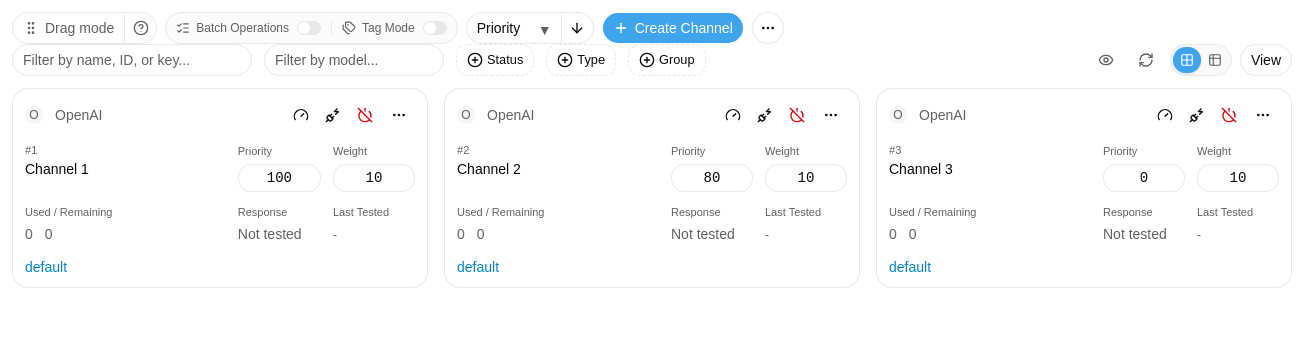
card and table views share the saved order
Click the button "Drag mode" at (69, 28), box [12,12,125,44]
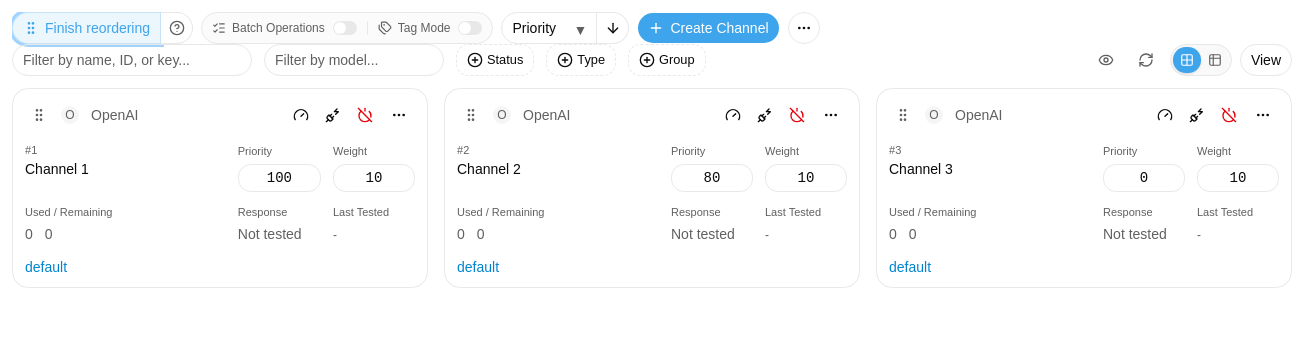
Expected: the button named "Reorder channel 3" is shown
Press ArrowUp in the button named "Reorder channel 3", box [889,101,917,129]
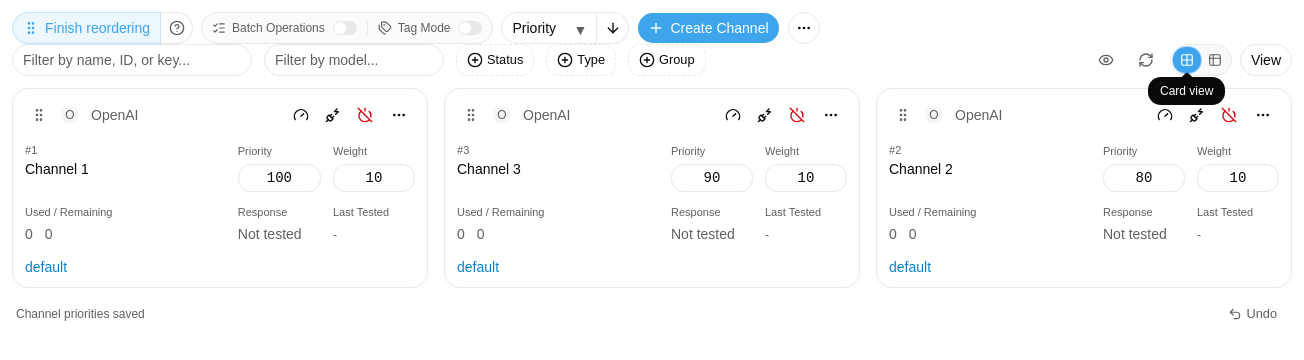
Expected: the button "Undo" is shown, [1217,300,1288,328]
Press Tab
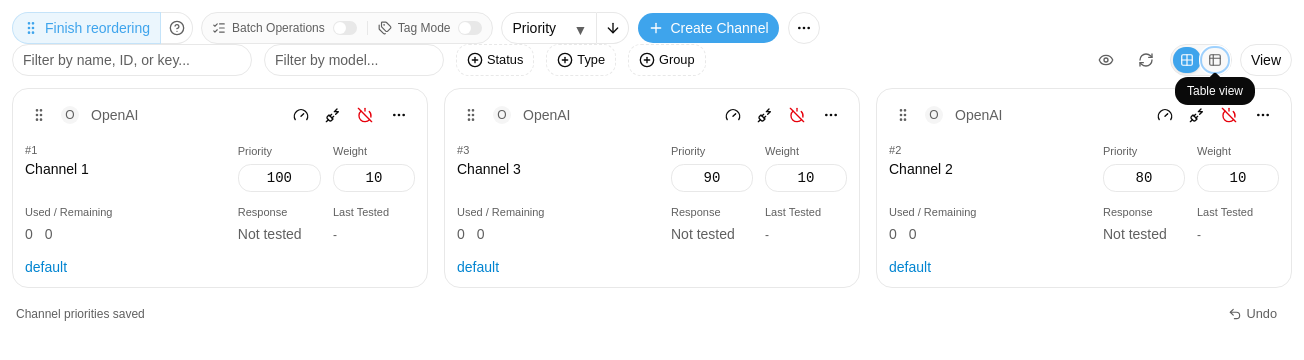
Press Enter
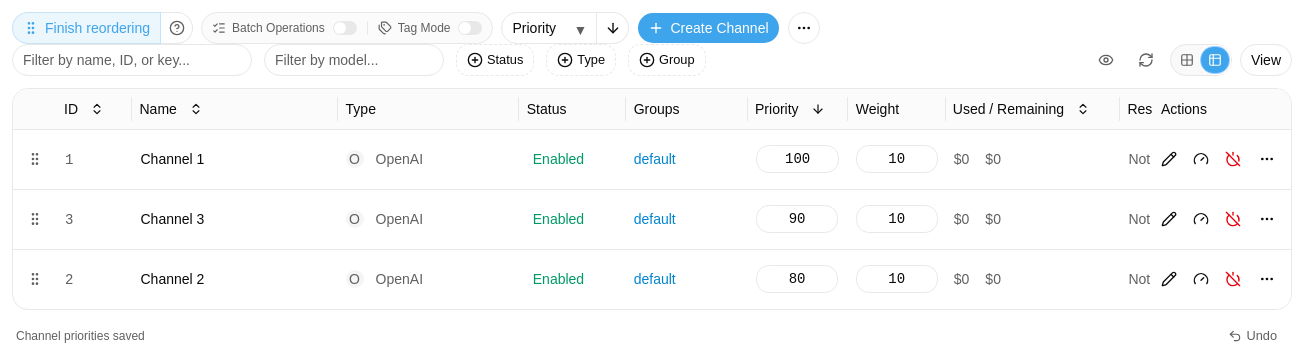
Expected: the table is shown, [13,89,1291,309]
